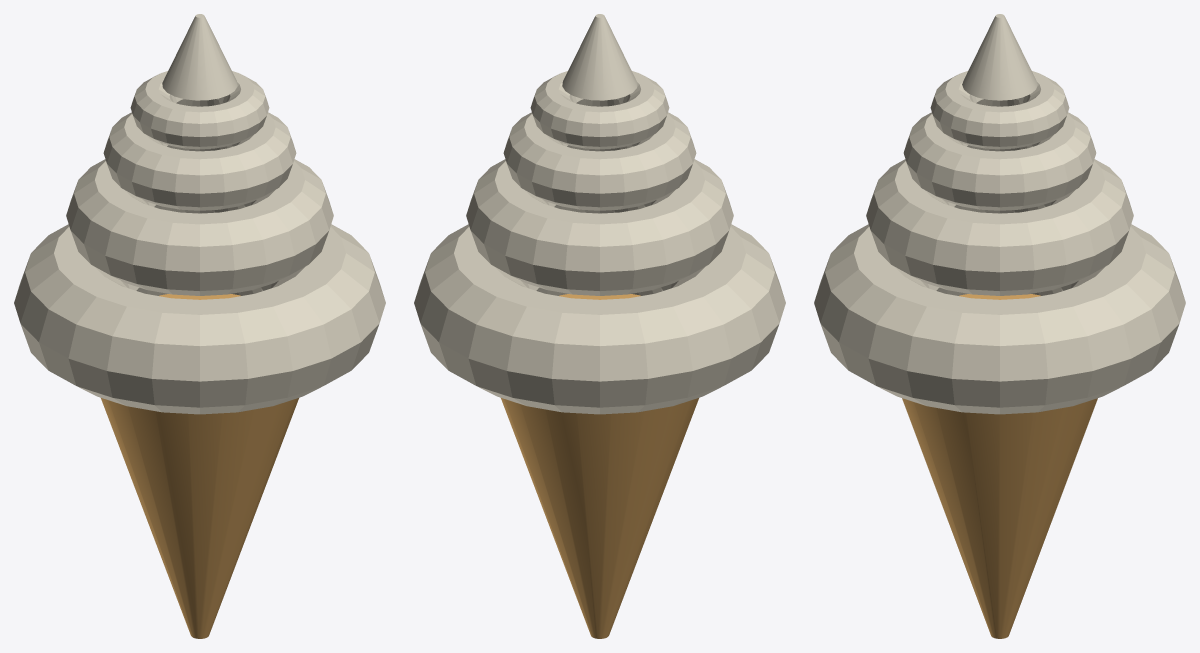
Rendered from Ice_L4.fbx.
3 views of the same model, side by side, from view 1: azimuth 30°, elevation 25°; view 2: azimuth 150°, elevation 25°; view 3: azimuth 270°, elevation 25° (orthographic).
Visible parts, largest first — view 1: I4_Soft_1, I4_Cone, I4_Soft_2, I4_Soft_3, I4_Soft_4, I4_Soft_Tip; view 2: I4_Soft_1, I4_Cone, I4_Soft_2, I4_Soft_3, I4_Soft_4, I4_Soft_Tip; view 3: I4_Soft_1, I4_Cone, I4_Soft_2, I4_Soft_3, I4_Soft_4, I4_Soft_Tip.
Part boxes in pixels (left/top/right/bottom): I4_Soft_1: left=14, top=224, right=385, bottom=414; I4_Cone: left=101, top=294, right=298, bottom=638; I4_Soft_2: left=66, top=159, right=333, bottom=295; I4_Soft_3: left=103, top=112, right=296, bottom=210; I4_Soft_4: left=130, top=71, right=269, bottom=149; I4_Soft_Tip: left=162, top=14, right=237, bottom=100; I4_Soft_1: left=414, top=224, right=785, bottom=414; I4_Cone: left=501, top=294, right=698, bottom=638; I4_Soft_2: left=466, top=159, right=733, bottom=295; I4_Soft_3: left=503, top=112, right=696, bottom=210; I4_Soft_4: left=530, top=71, right=669, bottom=149; I4_Soft_Tip: left=562, top=14, right=637, bottom=100; I4_Soft_1: left=814, top=224, right=1185, bottom=414; I4_Cone: left=902, top=294, right=1097, bottom=638; I4_Soft_2: left=866, top=159, right=1133, bottom=295; I4_Soft_3: left=903, top=112, right=1096, bottom=210; I4_Soft_4: left=930, top=71, right=1069, bottom=149; I4_Soft_Tip: left=962, top=14, right=1037, bottom=100.
Size of the model in its own units: 16.24 by 29.83 by 16.24.
